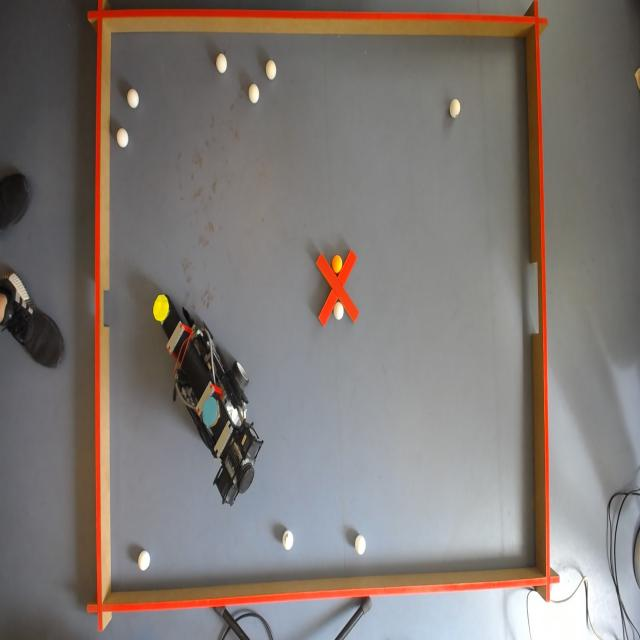orange: (332, 255, 342, 272)
robot: (164, 289, 253, 492)
robot-front: (153, 294, 170, 322)
robot-rear: (202, 397, 218, 424)
white: (116, 126, 128, 150), (126, 87, 139, 108), (217, 54, 230, 75), (284, 530, 296, 552), (247, 85, 260, 105), (265, 59, 278, 79), (137, 552, 151, 570), (450, 98, 462, 117), (356, 537, 368, 556), (332, 302, 343, 322)
